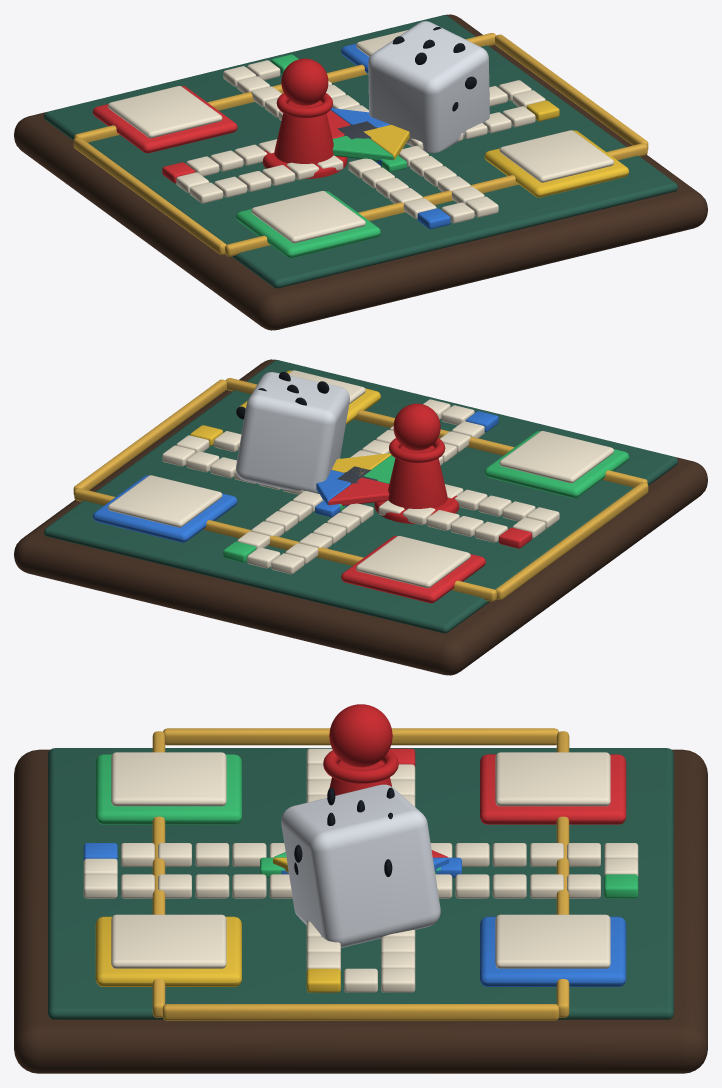
The model's file is ludomada-premium-3d-rev3.glb.
3 renders of one model, top to bottom at view 1: azimuth 30°, elevation 25°; view 2: azimuth 150°, elevation 25°; view 3: azimuth 270°, elevation 25°, orthographic. The views are drawn at different scales.
Parts seen in each view (by area): view 1: LM_Board_Recessed_Surface, LM_Table_Deep_Base, LM_Die_HydroChrome_Body, LM_Home_2_Inset, LM_Home_1_Inset, LM_Home_0_Inset, LM_Pawn_Tapered_Body, LM_Home_1_Base, LM_Home_2_Base, LM_Home_0_Base, LM_Board_Gold_Frame.002, LM_Board_Gold_Frame.003 (+11 smaller); view 2: LM_Board_Recessed_Surface, LM_Table_Deep_Base, LM_Die_HydroChrome_Body, LM_Home_3_Inset, LM_Home_0_Inset, LM_Home_1_Inset, LM_Pawn_Tapered_Body, LM_Home_0_Base, LM_Home_3_Base, LM_Home_1_Base, LM_Board_Gold_Frame.002, LM_Board_Gold_Frame.003 (+12 smaller); view 3: LM_Board_Recessed_Surface, LM_Table_Deep_Base, LM_Die_HydroChrome_Body, LM_Board_Gold_Frame.003, LM_Home_0_Inset, LM_Home_1_Inset, LM_Home_2_Inset, LM_Home_3_Inset, LM_Board_Gold_Frame.002, LM_Home_0_Base, LM_Home_1_Base, LM_Home_2_Base (+29 smaller).
Part boxes in pixels (x1,y1,x2,y2): LM_Board_Recessed_Surface: (44, 15, 677, 288); LM_Table_Deep_Base: (14, 14, 707, 330); LM_Die_HydroChrome_Body: (368, 21, 489, 152); LM_Home_2_Inset: (499, 130, 614, 182); LM_Home_1_Inset: (251, 191, 365, 243); LM_Home_0_Inset: (108, 86, 222, 138); LM_Pawn_Tapered_Body: (274, 100, 333, 164); LM_Home_1_Base: (236, 191, 380, 258); LM_Home_2_Base: (484, 130, 629, 197); LM_Home_0_Base: (92, 86, 237, 153); LM_Board_Gold_Frame.002: (73, 137, 226, 254); LM_Board_Gold_Frame.003: (495, 34, 648, 149); LM_Board_Recessed_Surface: (44, 360, 677, 633); LM_Table_Deep_Base: (14, 359, 707, 675); LM_Die_HydroChrome_Body: (235, 372, 349, 493); LM_Home_3_Inset: (107, 475, 222, 527); LM_Home_0_Inset: (356, 536, 470, 588); LM_Home_1_Inset: (499, 431, 613, 483); LM_Pawn_Tapered_Body: (388, 445, 447, 509); LM_Home_0_Base: (341, 536, 485, 603); LM_Home_3_Base: (92, 475, 237, 542); LM_Home_1_Base: (484, 431, 629, 498); LM_Board_Gold_Frame.002: (495, 482, 648, 599); LM_Board_Gold_Frame.003: (73, 379, 226, 494); LM_Board_Recessed_Surface: (48, 748, 673, 1019); LM_Table_Deep_Base: (14, 749, 707, 1073); LM_Die_HydroChrome_Body: (281, 784, 440, 947); LM_Board_Gold_Frame.003: (162, 1004, 559, 1020); LM_Home_0_Inset: (495, 752, 610, 806); LM_Home_1_Inset: (111, 752, 226, 806); LM_Home_2_Inset: (111, 914, 226, 968); LM_Home_3_Inset: (495, 914, 610, 968); LM_Board_Gold_Frame.002: (163, 728, 558, 745); LM_Home_0_Base: (480, 754, 626, 824); LM_Home_1_Base: (95, 754, 241, 824); LM_Home_2_Base: (95, 916, 241, 986).
Size of what is drawn, in the model's own units: 5.6 by 1.7 by 5.6.
